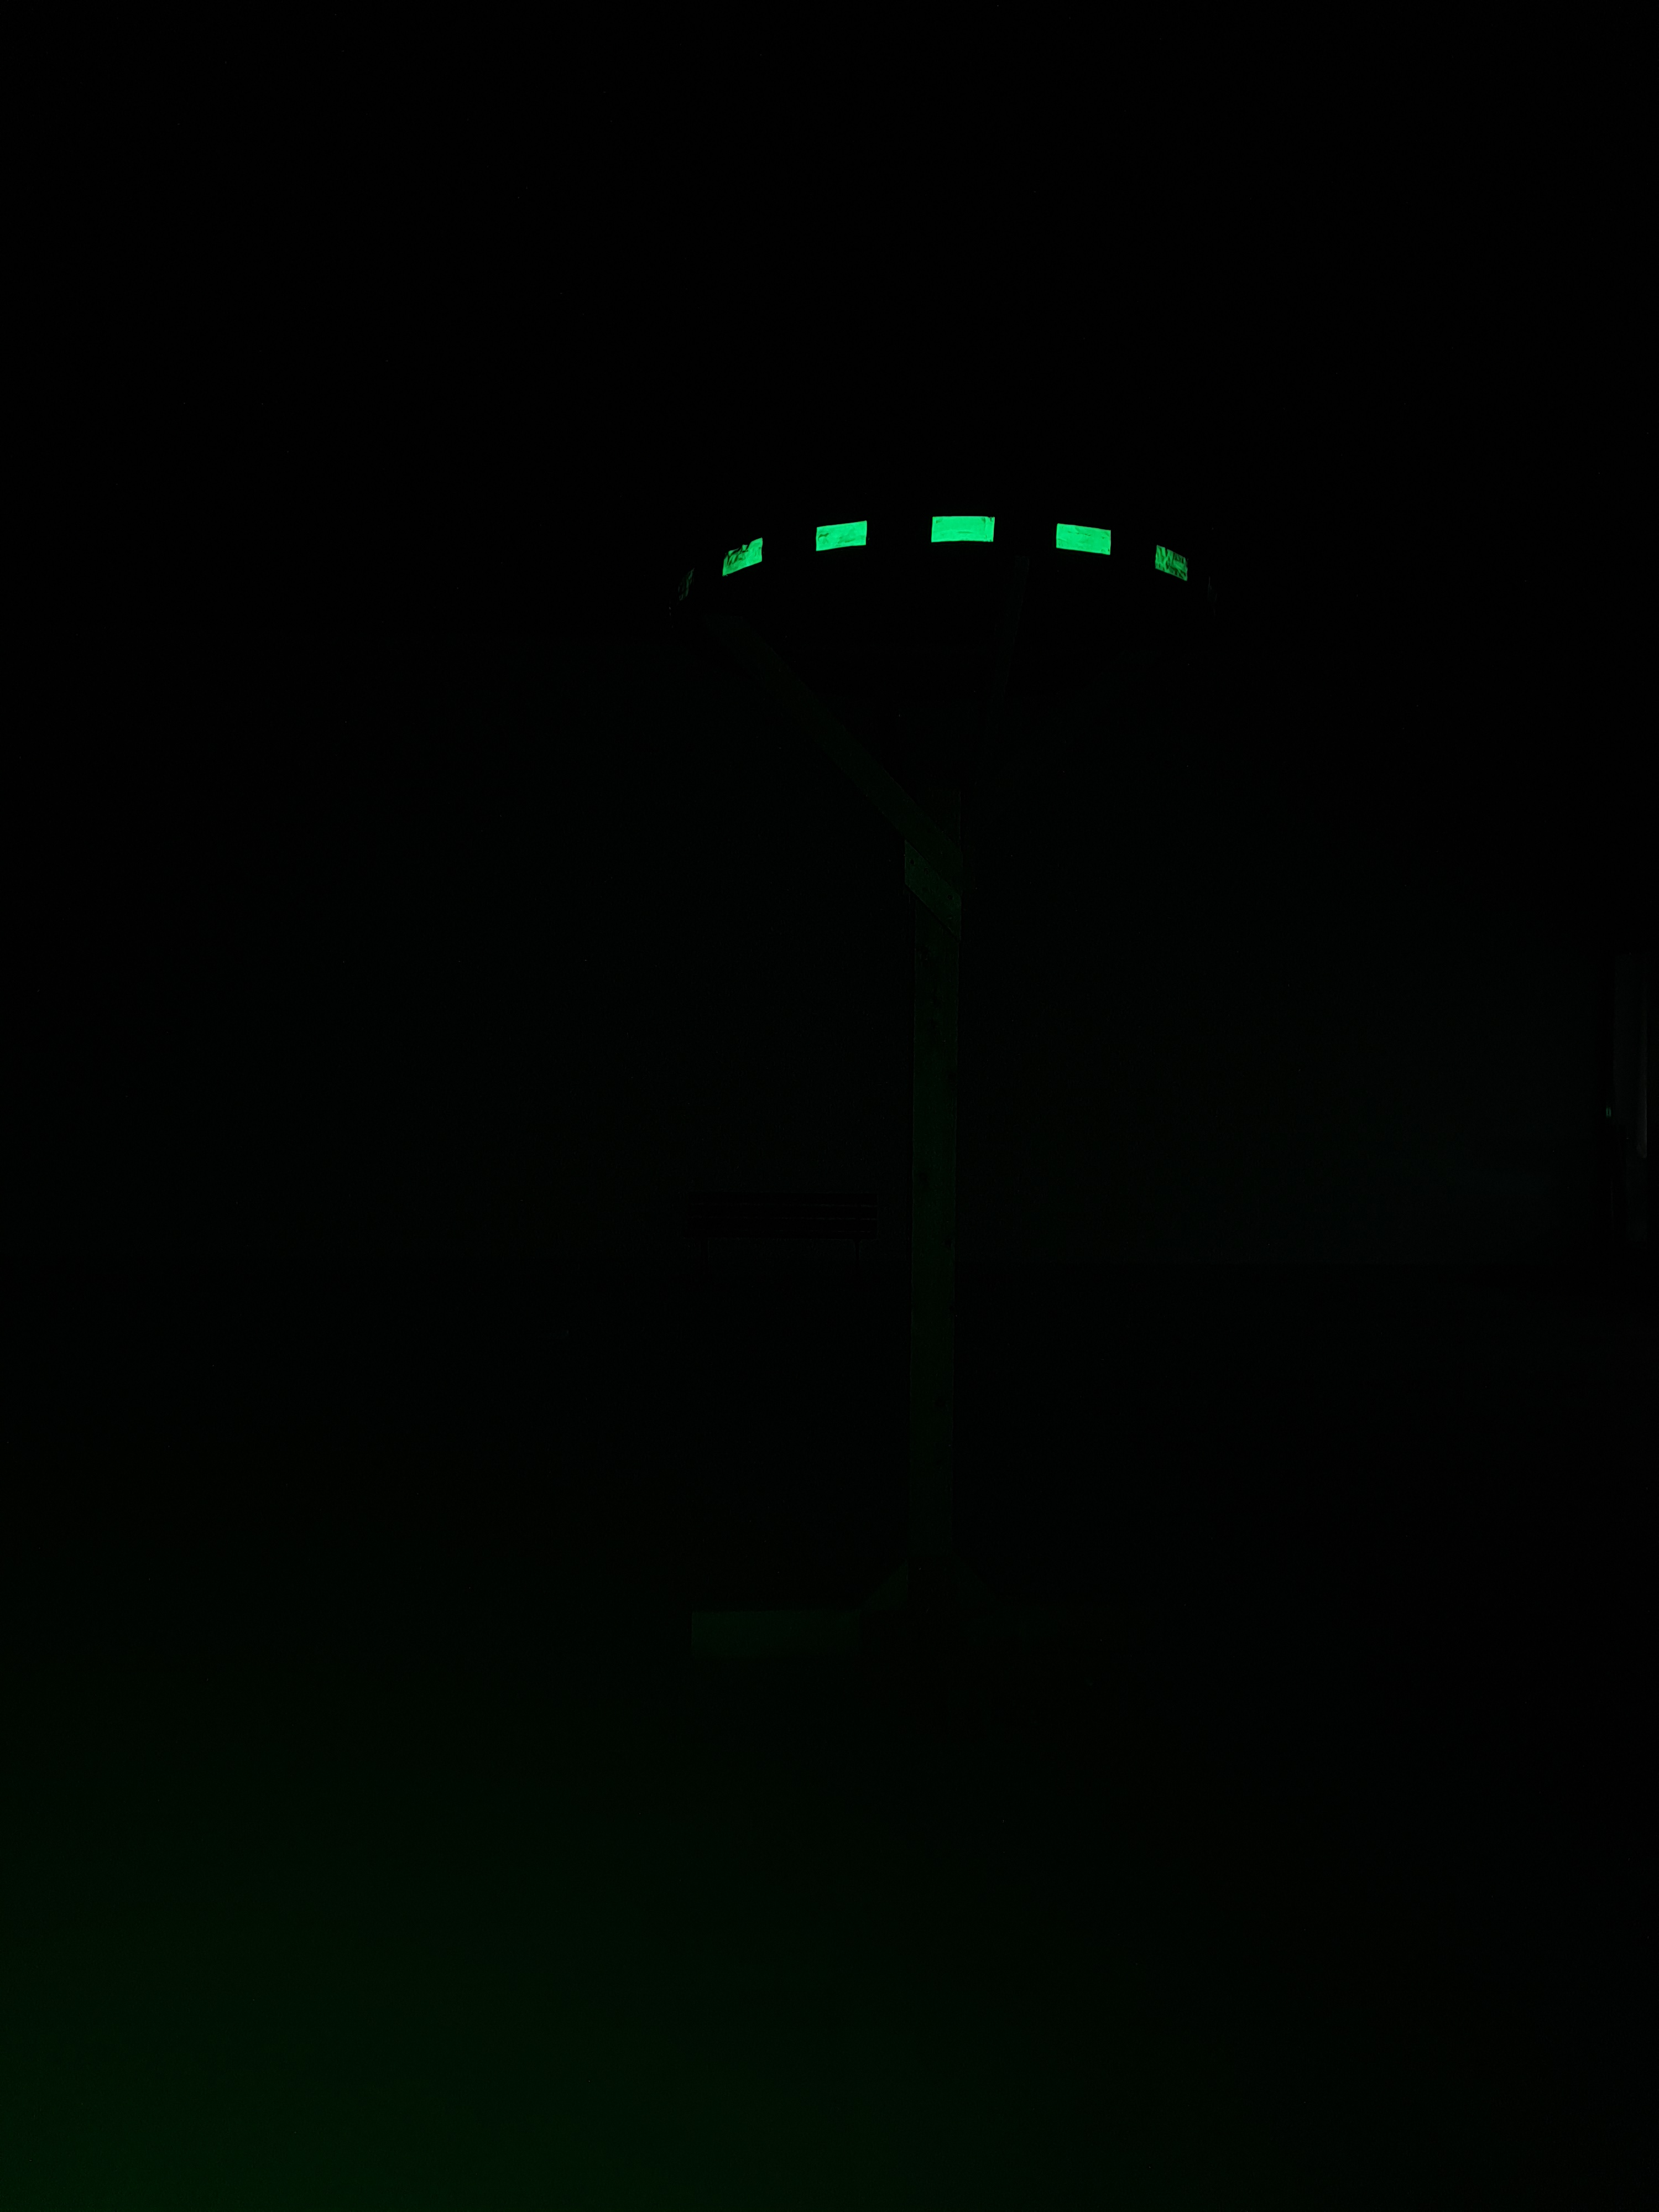hoop: (718, 509, 1192, 587)
